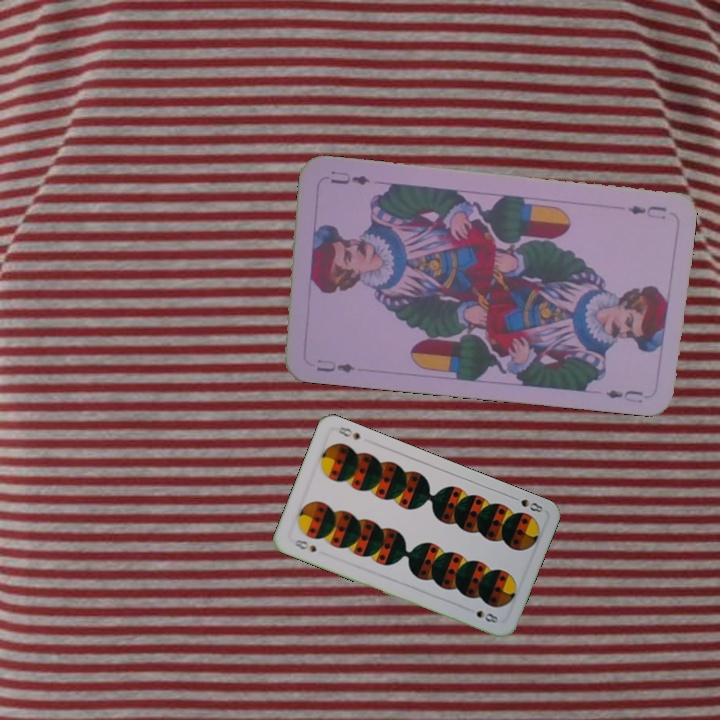EU: (624, 201, 669, 222), (312, 355, 357, 375)
S8: (507, 492, 545, 515), (289, 535, 319, 555)
